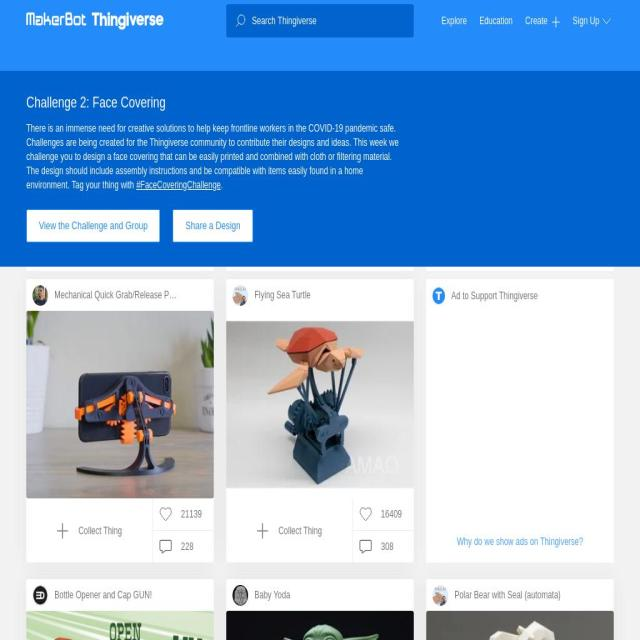button: (26, 311, 214, 498), (226, 311, 414, 498), (26, 611, 214, 640), (226, 611, 414, 640), (426, 611, 614, 640), (26, 209, 167, 243), (26, 246, 214, 271), (226, 246, 414, 271), (426, 246, 614, 271), (56, 498, 122, 562), (256, 498, 322, 562), (26, 11, 164, 35), (172, 209, 260, 243), (572, 4, 614, 38), (525, 4, 561, 38), (441, 4, 467, 38), (159, 506, 202, 522), (359, 506, 402, 522), (158, 538, 194, 555), (358, 538, 394, 555), (33, 284, 48, 306), (233, 284, 248, 306), (33, 584, 48, 606), (233, 584, 248, 606), (433, 584, 448, 606)
field: (246, 14, 414, 28)
iframe: (426, 312, 614, 521)
image: (0, 0, 640, 71), (26, 311, 214, 498), (226, 311, 414, 498), (26, 611, 214, 640), (226, 611, 414, 640), (426, 611, 614, 640), (26, 11, 164, 31), (33, 284, 48, 306), (233, 284, 248, 306), (33, 584, 48, 606), (233, 584, 248, 606), (433, 584, 448, 606), (56, 522, 70, 539), (256, 522, 270, 539), (159, 538, 172, 555), (359, 538, 372, 555), (159, 506, 172, 522), (359, 506, 372, 522), (236, 14, 246, 28), (552, 16, 560, 27), (436, 292, 442, 300)
link: (479, 4, 513, 38), (136, 179, 220, 191)
text: (26, 122, 399, 191), (26, 92, 402, 113), (26, 209, 161, 243), (32, 249, 196, 268), (232, 249, 396, 268), (432, 249, 596, 268), (78, 498, 123, 562), (278, 498, 323, 562), (172, 209, 254, 243), (54, 288, 180, 302), (254, 288, 380, 302), (54, 588, 180, 602), (254, 588, 380, 602), (454, 588, 580, 602), (457, 535, 583, 548), (451, 287, 538, 305), (180, 506, 202, 522), (381, 506, 402, 522), (525, 15, 548, 27), (180, 538, 193, 555), (381, 538, 394, 555), (220, 179, 223, 191)
